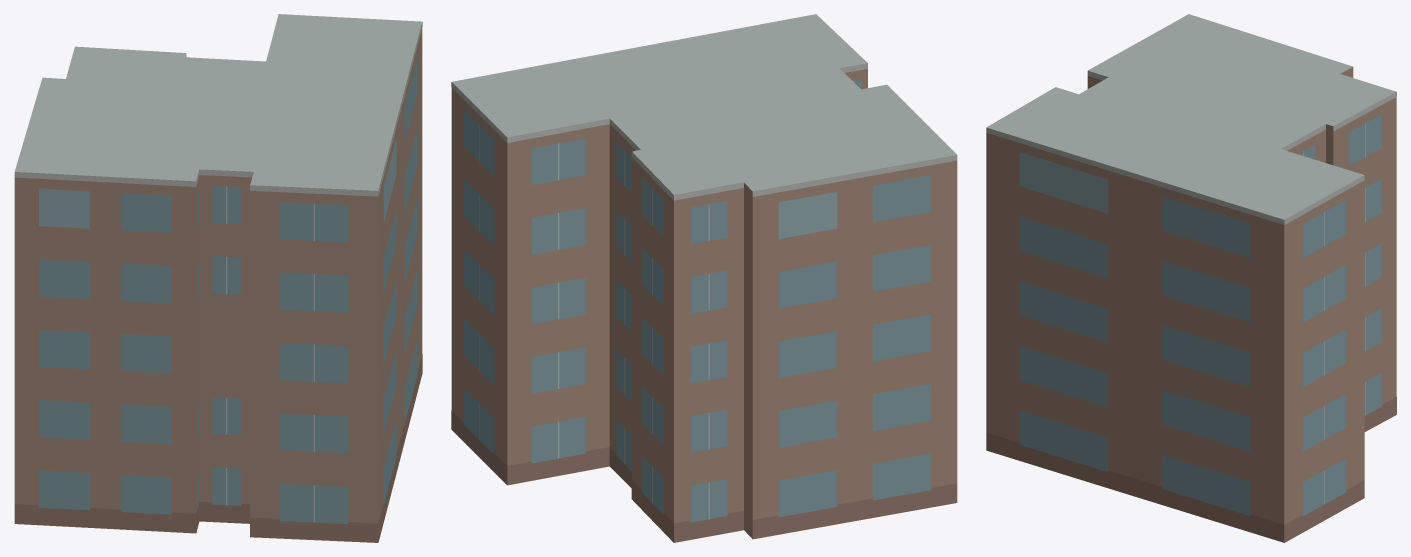
File: survey-upis-32637326.glb
The picture shows the model from 3 angles, left to right: view 1: azimuth 30°, elevation 25°; view 2: azimuth 150°, elevation 25°; view 3: azimuth 270°, elevation 25°; orthographic projection. The views are drawn at different scales.
Visible parts, largest first — view 1: survey-upis-32637326.tmp; view 2: survey-upis-32637326.tmp; view 3: survey-upis-32637326.tmp.
Boxes of the visible parts, x1,y1,x2,y2 form: survey-upis-32637326.tmp: (14,14,422,542); survey-upis-32637326.tmp: (451,14,957,542); survey-upis-32637326.tmp: (986,14,1396,542).
Bounding box in the file's own units: 20.79 × 15.2 × 17.52.
